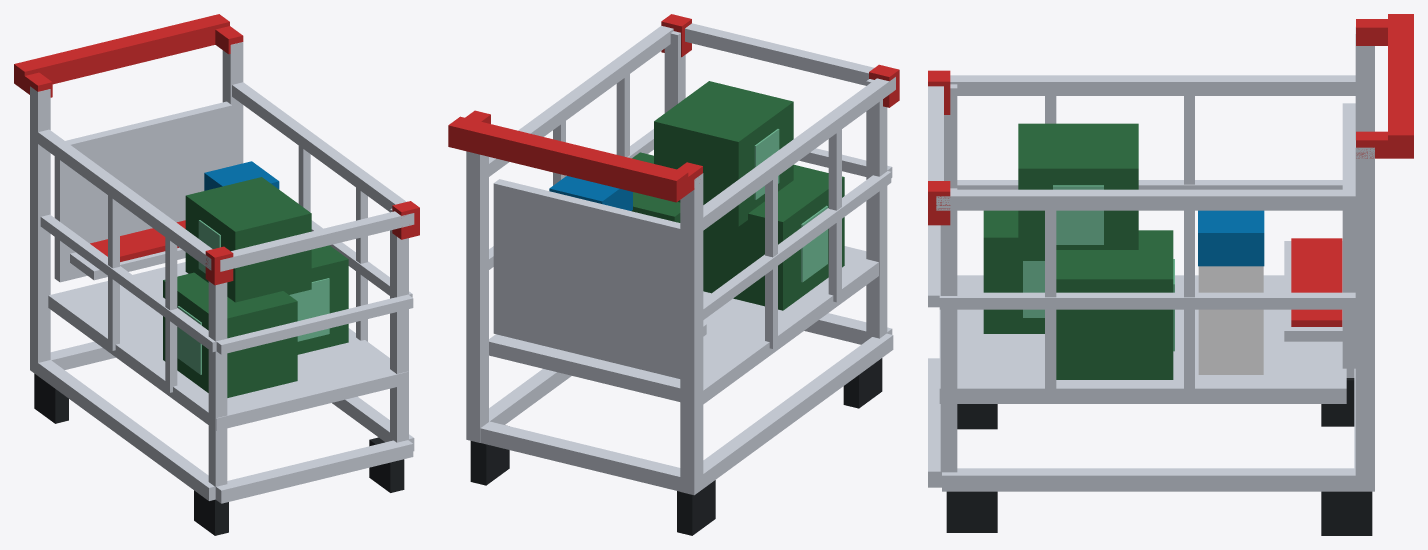
Rendered from obs_shopping_cart_rogue.glb.
The picture shows the model from 3 angles, left to right: view 1: azimuth 30°, elevation 25°; view 2: azimuth 150°, elevation 25°; view 3: azimuth 270°, elevation 25°; orthographic projection. The views are drawn at different scales.
Parts seen in each view (by area): view 1: body, melon_1_base, gate_flap, push_handlebar, caster_fl, melon_1_stripe, milk_carton_gable; view 2: body, gate_flap, melon_1_base, push_handlebar, caster_fl, melon_1_stripe, milk_carton_gable; view 3: body, melon_1_base, gate_flap, push_handlebar, caster_fl, milk_carton_body, milk_carton_gable, melon_1_stripe.
Boxes of the visible parts, x1=… form: body: x1=30, y1=42, x2=414, y2=503; melon_1_base: x1=163, y1=177, x2=348, y2=397; gate_flap: x1=54, y1=101, x2=231, y2=282; push_handlebar: x1=14, y1=14, x2=419, y2=285; caster_fl: x1=34, y1=373, x2=404, y2=535; melon_1_stripe: x1=177, y1=220, x2=329, y2=374; milk_carton_gable: x1=204, y1=161, x2=279, y2=190; body: x1=466, y1=23, x2=895, y2=495; gate_flap: x1=493, y1=179, x2=706, y2=378; melon_1_base: x1=632, y1=81, x2=844, y2=310; push_handlebar: x1=448, y1=14, x2=899, y2=202; caster_fl: x1=470, y1=358, x2=882, y2=535; melon_1_stripe: x1=754, y1=129, x2=827, y2=282; milk_carton_gable: x1=549, y1=176, x2=632, y2=210; body: x1=928, y1=27, x2=1374, y2=491; melon_1_base: x1=983, y1=123, x2=1173, y2=379; gate_flap: x1=1284, y1=103, x2=1355, y2=368; push_handlebar: x1=928, y1=14, x2=1413, y2=225; caster_fl: x1=946, y1=378, x2=1372, y2=535; milk_carton_body: x1=1198, y1=266, x2=1263, y2=374; milk_carton_gable: x1=1198, y1=210, x2=1264, y2=266; melon_1_stripe: x1=1023, y1=185, x2=1174, y2=351.
Size of the model in its own units: 0.62 by 0.96 by 1.05.
